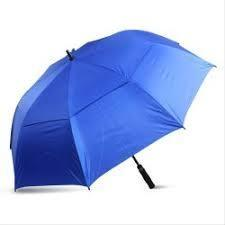Umbrella: (9, 29, 218, 194)
